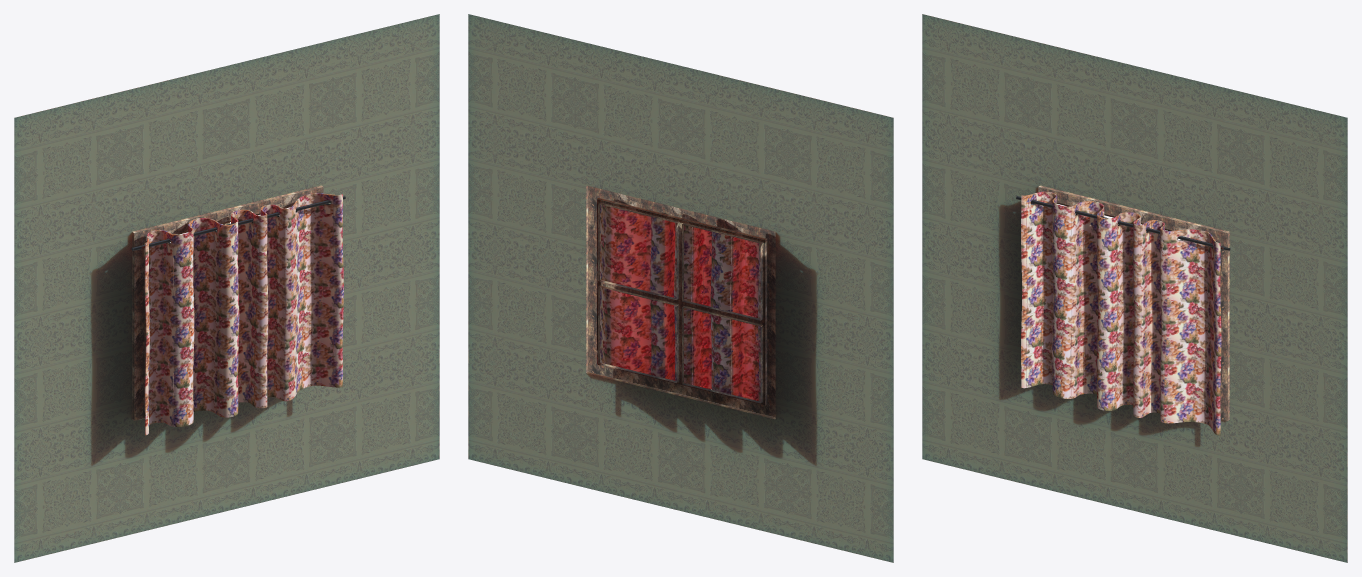
The model's file is window_curtain_bake.glb.
3 renders of one model, left to right at view 1: azimuth 30°, elevation 25°; view 2: azimuth 150°, elevation 25°; view 3: azimuth 330°, elevation 25°, orthographic.
Visible parts, largest first — view 1: Plane.001_0; view 2: Plane.001_0; view 3: Plane.001_0.
Boxes of the visible parts, x1,y1,x2,y2 form: Plane.001_0: (14,14,439,562); Plane.001_0: (468,14,893,562); Plane.001_0: (922,14,1347,562).
Size of the model in its own units: 4 by 4 by 0.335.
1 material, 1 textured.
